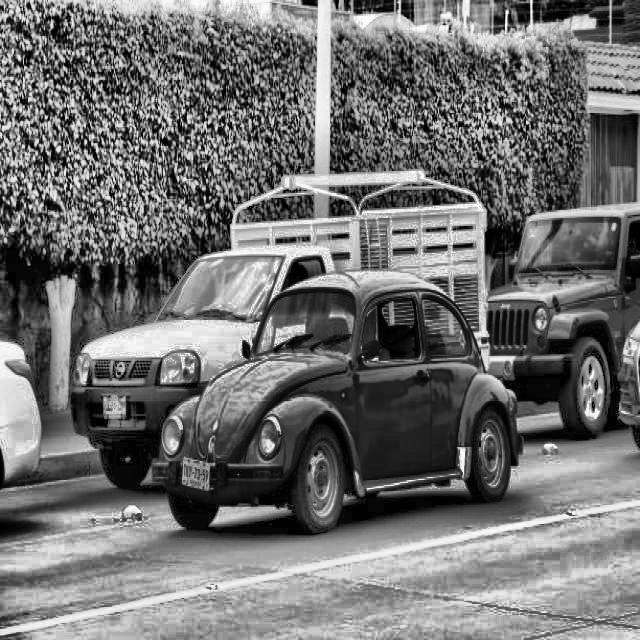carro: (61, 248, 482, 472), (148, 272, 525, 514), (488, 216, 640, 424)
